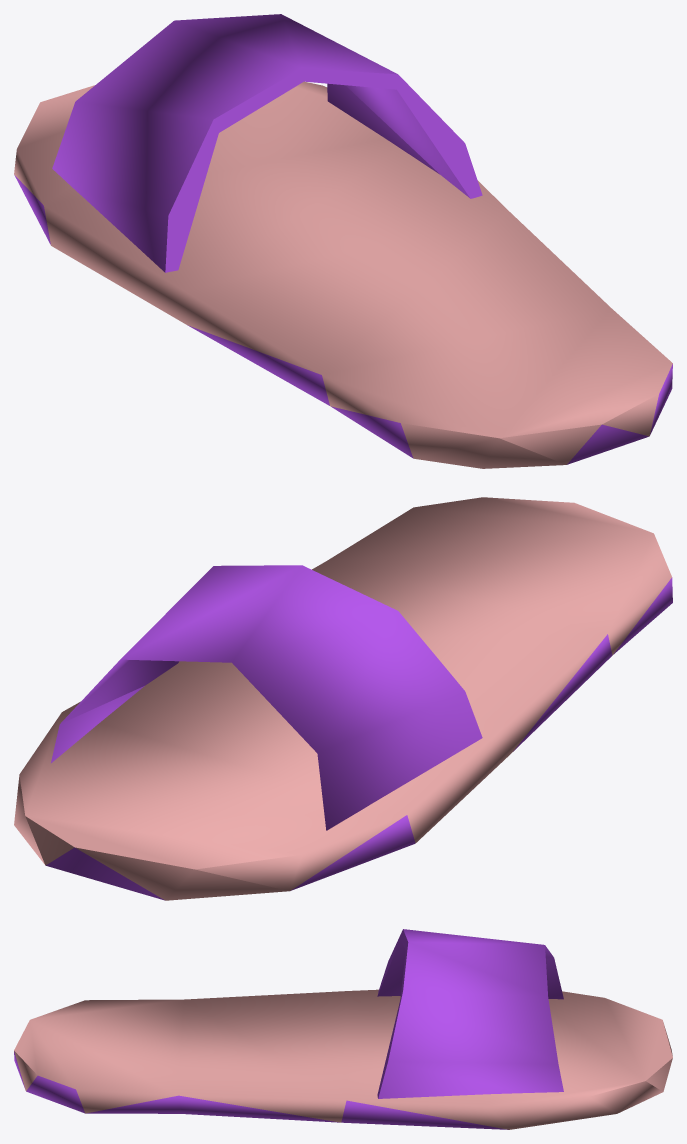
File: slipper 1.fbx
The picture shows the model from 3 angles, top to bottom: view 1: azimuth 30°, elevation 25°; view 2: azimuth 150°, elevation 25°; view 3: azimuth 270°, elevation 25°; orthographic projection. The views are drawn at different scales.
Parts seen in each view (by area): view 1: BWS1; view 2: BWS1; view 3: BWS1.
Part boxes in pixels (x1,y1,x2,y2): BWS1: (14, 14, 672, 468); BWS1: (14, 497, 672, 900); BWS1: (14, 929, 672, 1129).
Size of the model in its own units: 286 by 137 by 649.
